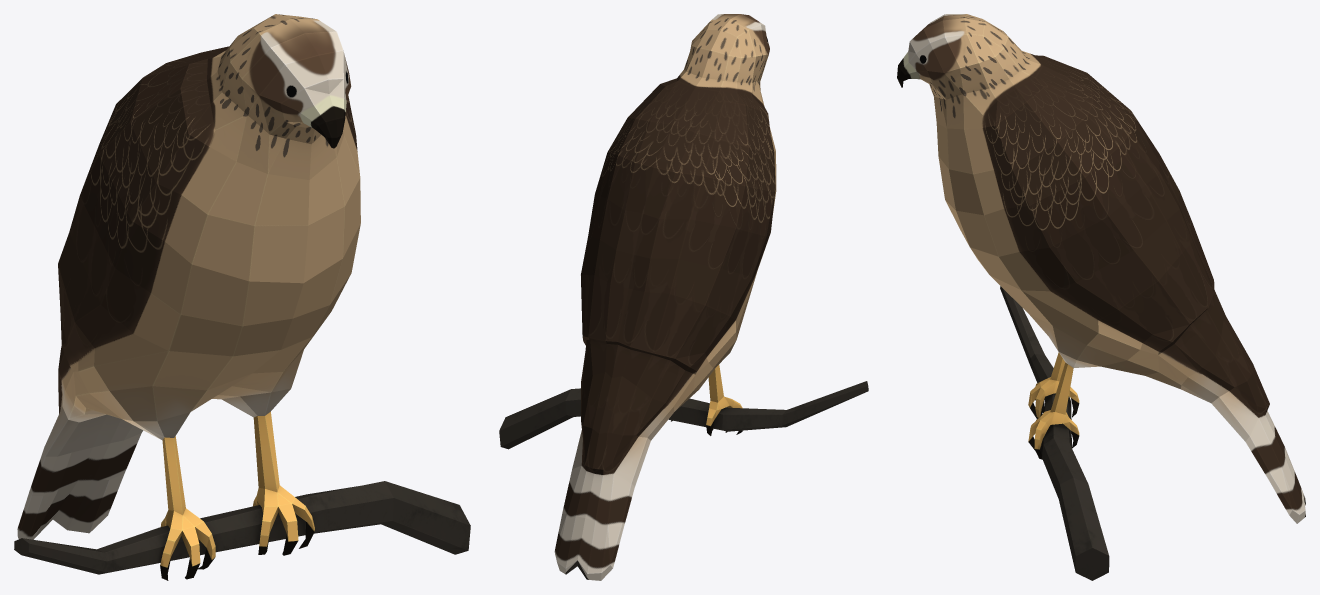
File: 81aefe86-e664-49cd-ac90-204fc5bb784f.glb
3 renders of one model, left to right at view 1: azimuth 30°, elevation 25°; view 2: azimuth 150°, elevation 25°; view 3: azimuth 270°, elevation 25°, orthographic. The views are drawn at different scales.
Parts seen in each view (by area): view 1: MarshHawk_Mesh; view 2: MarshHawk_Mesh; view 3: MarshHawk_Mesh.
Part boxes in pixels (x1=…): MarshHawk_Mesh: x1=14, y1=14, x2=470, y2=580; MarshHawk_Mesh: x1=499, y1=14, x2=868, y2=580; MarshHawk_Mesh: x1=897, y1=14, x2=1305, y2=580.
Bounding box in the file's own units: 2.81 × 3.69 × 2.77.
1 material, 1 textured.
